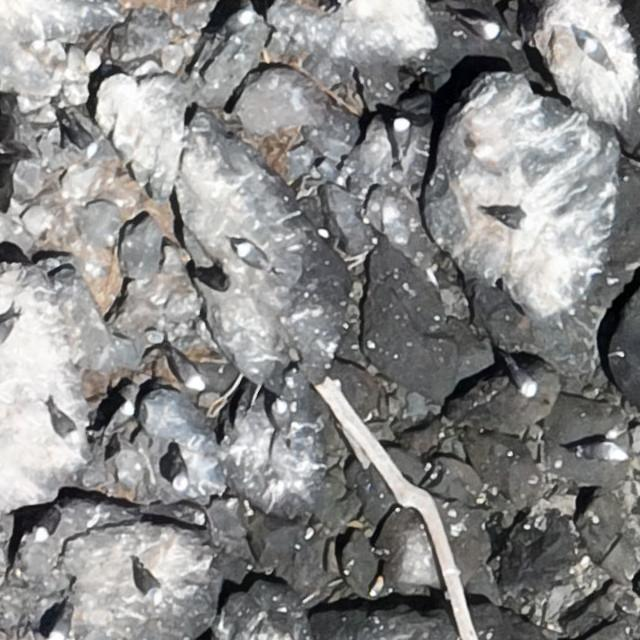umineko: (62, 112, 100, 156), (171, 347, 207, 389), (48, 402, 81, 444), (89, 27, 115, 70), (216, 10, 252, 41), (586, 38, 615, 73), (166, 450, 188, 494), (271, 399, 293, 442), (488, 209, 529, 229), (237, 245, 266, 269), (393, 116, 411, 154), (464, 18, 498, 38), (513, 368, 537, 396), (580, 442, 614, 459), (39, 512, 59, 538), (140, 569, 159, 595), (111, 404, 132, 426), (50, 616, 70, 639), (0, 320, 10, 346)
